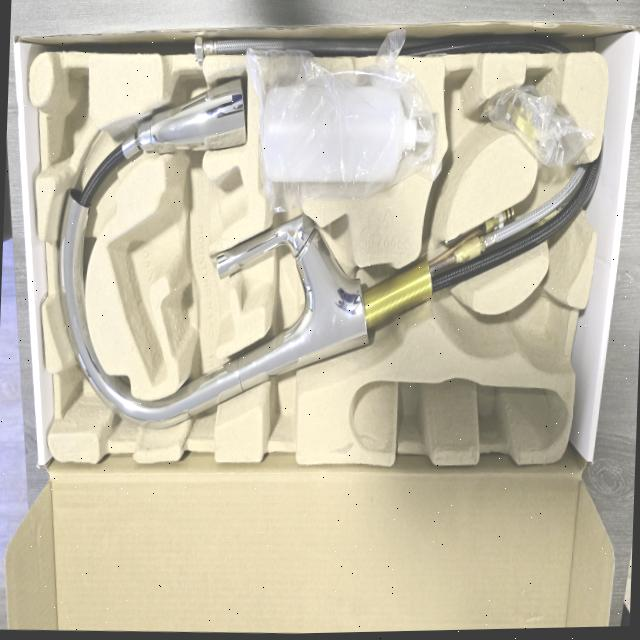1: (55, 78, 601, 434)
2m: (108, 167, 248, 384)
3: (262, 85, 437, 184)
4m: (350, 377, 567, 450)
5m: (514, 289, 571, 371)
6: (483, 80, 595, 167)
7m: (444, 66, 483, 189)
